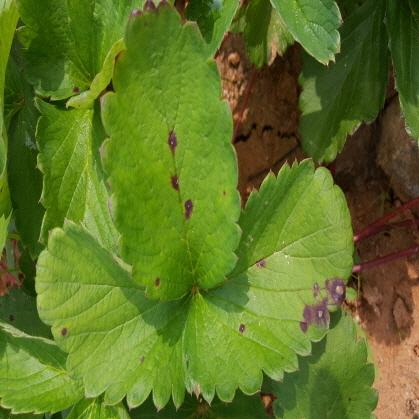Leaf Spot: (98, 0, 242, 304), (183, 156, 353, 405), (34, 216, 193, 412), (14, 0, 149, 109)
